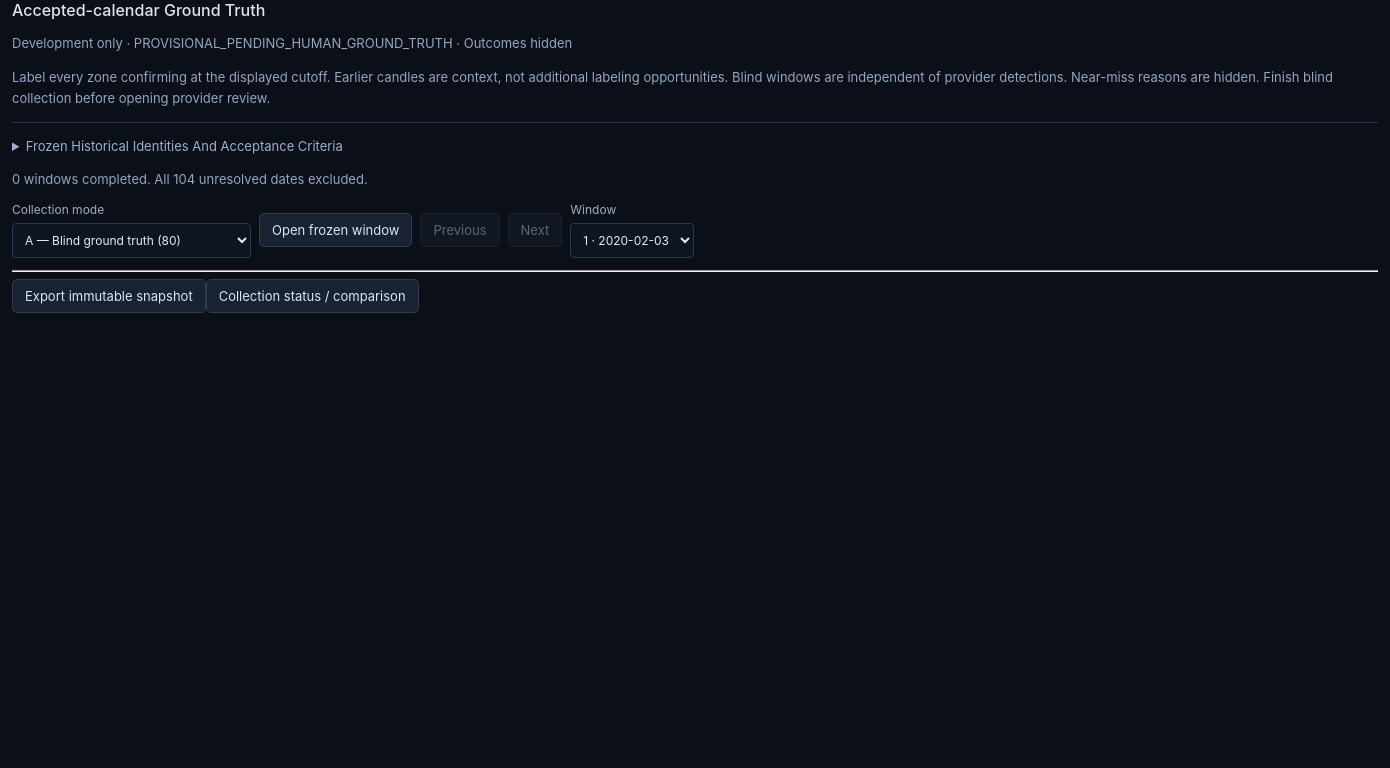
provider review has separate decisions after blind gate unlocks
Expected: the button "Open frozen window" is shown, [259,214,412,248]
Step 1. Select "B — Provider candidate review (50)" in the dropdown labelled "Collection mode" → {"x": 132, "y": 241}, box [12,224,251,258]
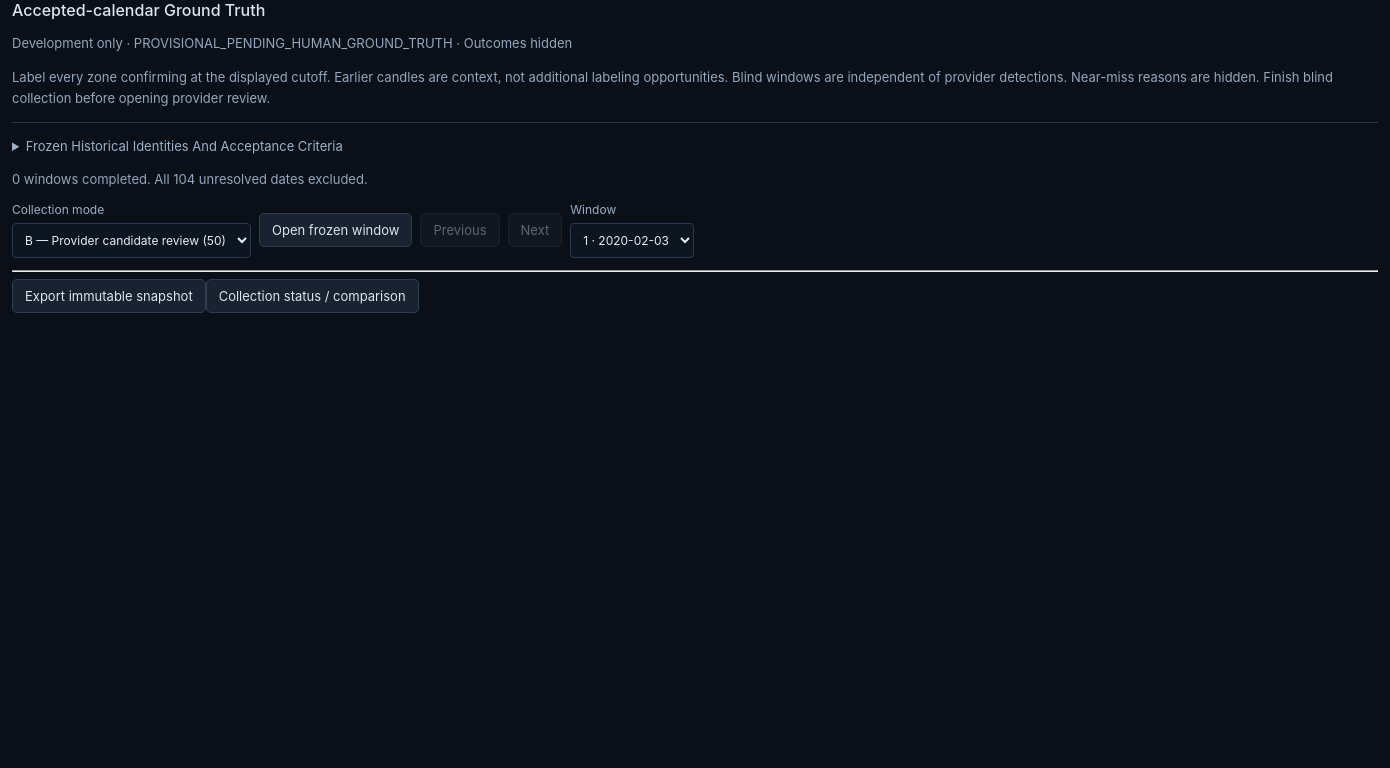
Step 2. Click the button "Open frozen window" → {"x": 336, "y": 230}, box [259,214,412,248]
(page scrolled)
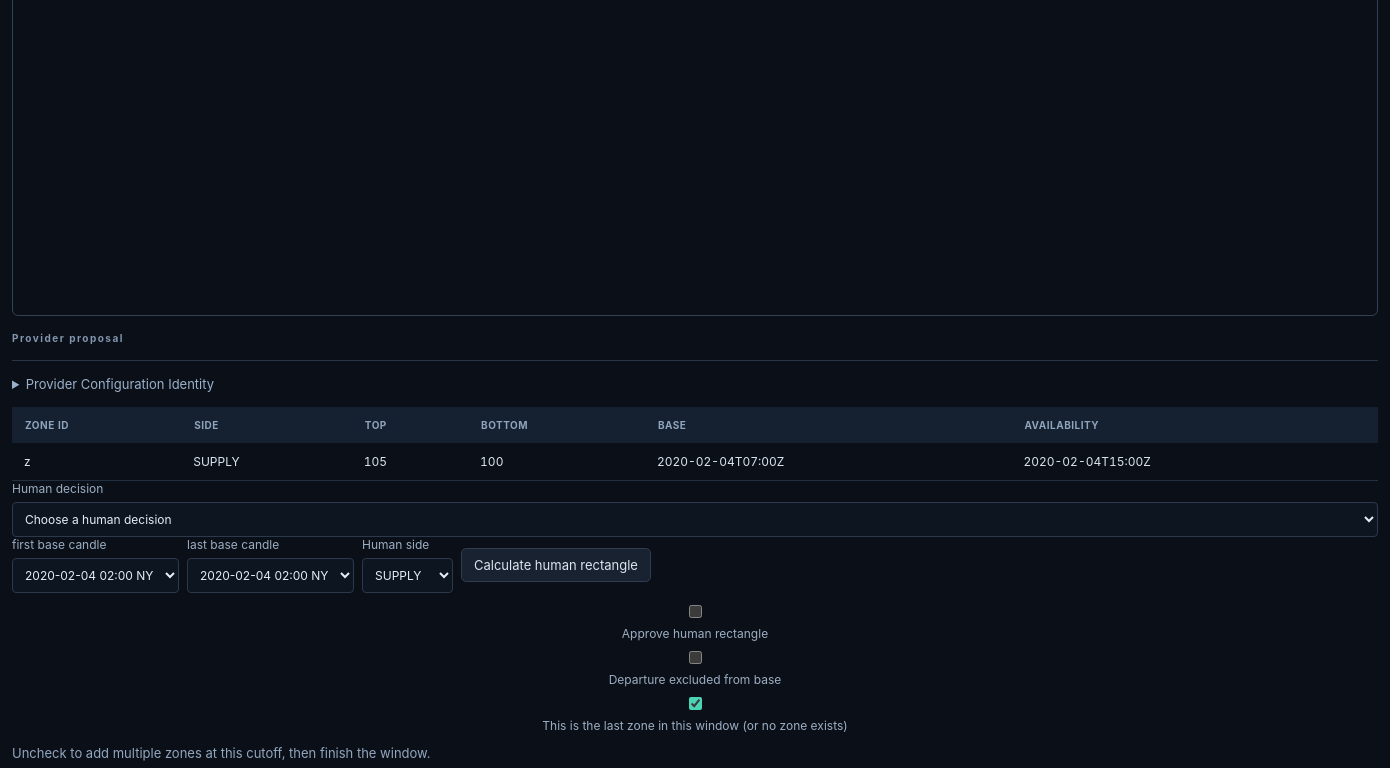
Now the heading "Provider proposal" is shown, box [12,332,124,344]
Now the heading "Provider configuration identity" is shown, box [26,376,214,392]
